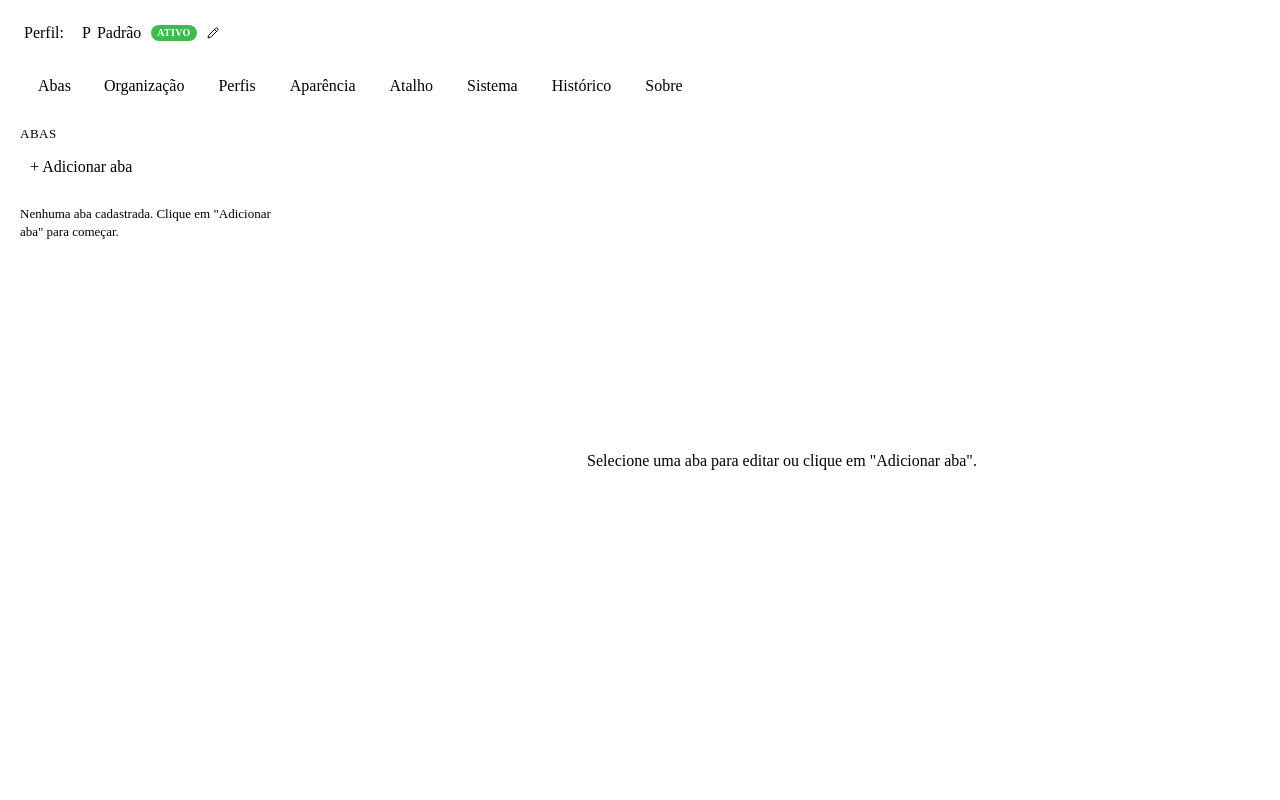
Scenario: SettingsApp intent routing › renders AppearanceSection when the Aparência tab is clicked
The width and height of the screenshot is (1280, 800).
Expected: the text "Selecione uma aba para editar ou clique em \"Adicionar aba\"." is shown, [587, 452, 977, 469]
Click the tab with test id "section-appearance" at (323, 86), box [275, 70, 370, 102]
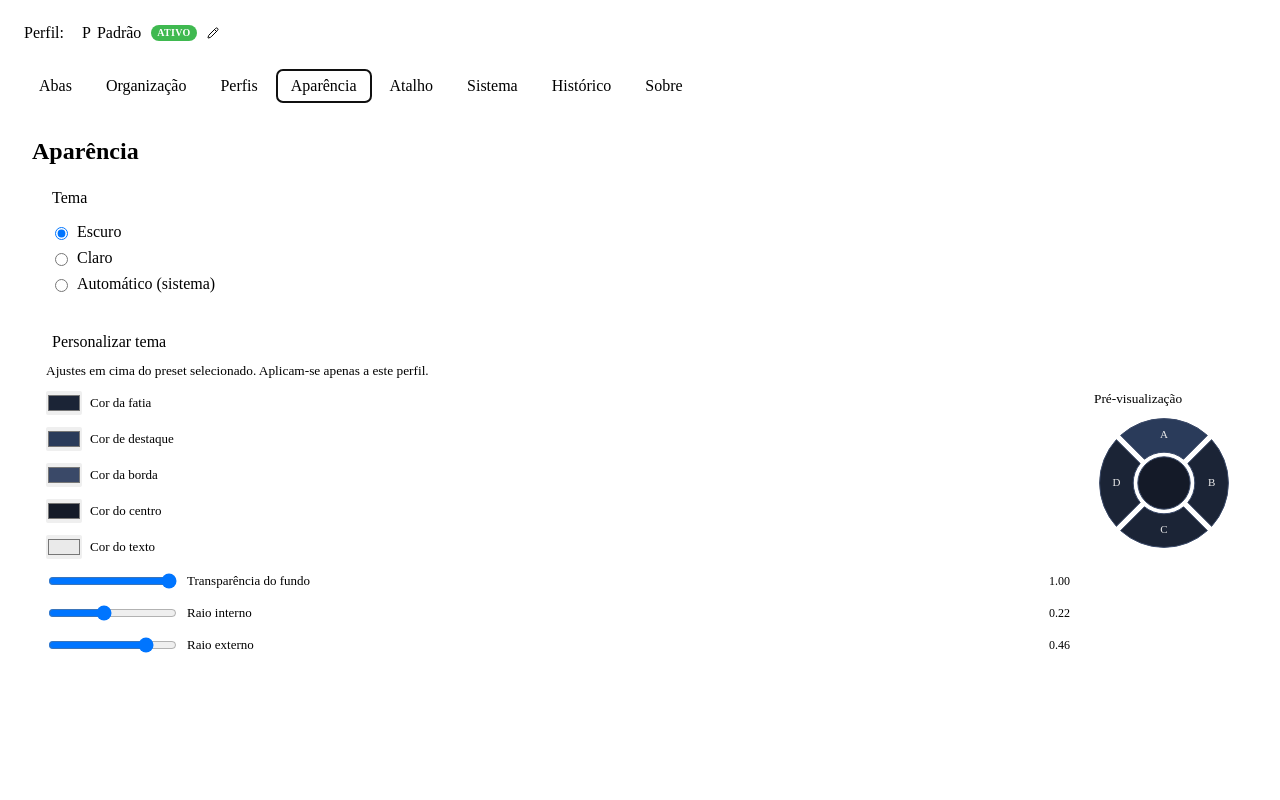
Result: the heading "Aparência" is shown at [32, 138, 139, 164]
